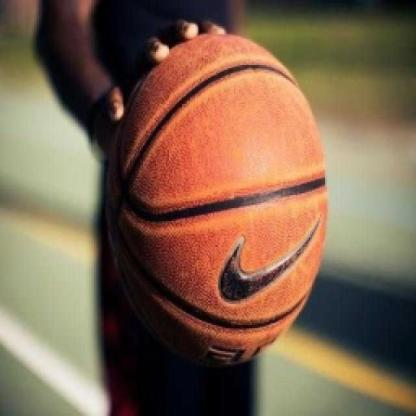basketball: (109, 29, 338, 377)
